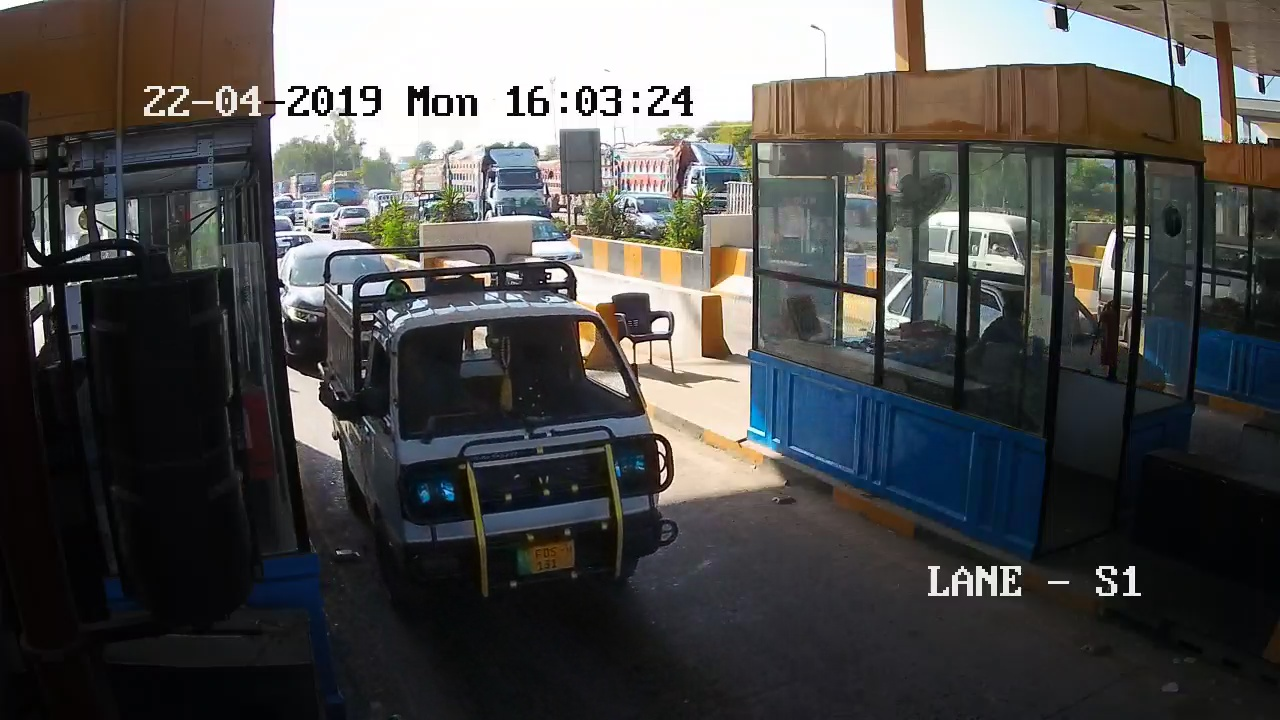Number Plate (Car): (512, 542, 578, 573)
